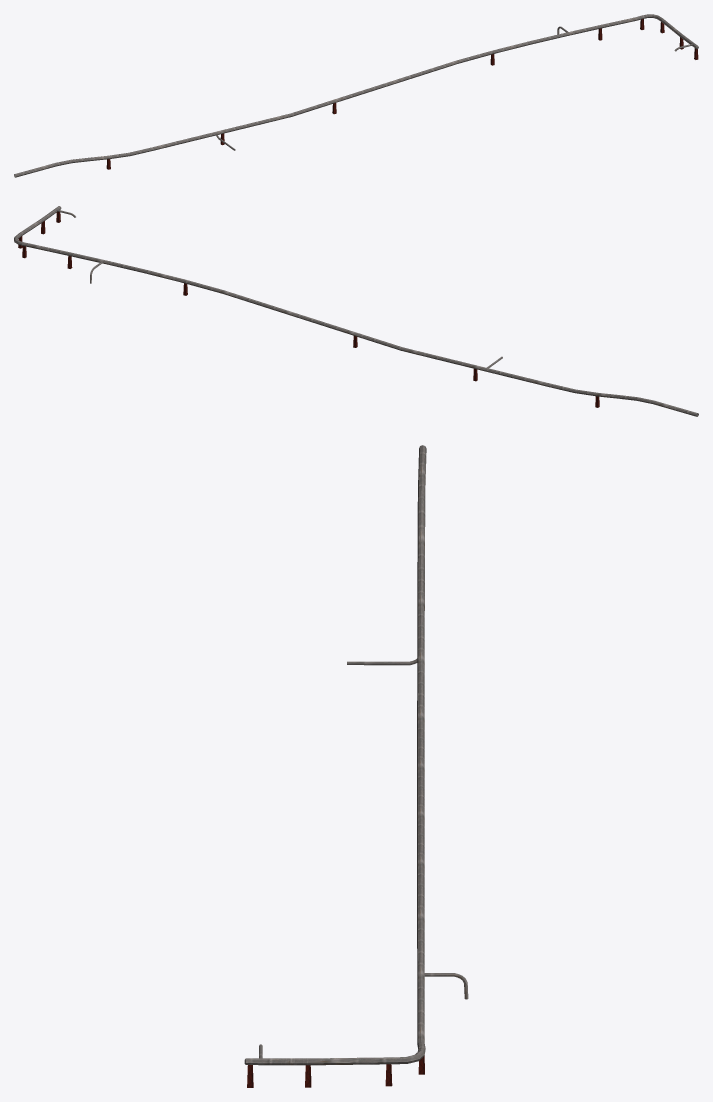
File: des_oilpipe_07.obj
3 views of the same model, one above another, from view 1: azimuth 30°, elevation 25°; view 2: azimuth 150°, elevation 25°; view 3: azimuth 270°, elevation 25° (orthographic). The views are drawn at different scales.
Parts seen in each view (by area): view 1: des_oilpipe_07; view 2: des_oilpipe_07; view 3: des_oilpipe_07.
Part boxes in pixels (<box>): des_oilpipe_07: <box>14,14,698,177</box>; des_oilpipe_07: <box>14,206,698,416</box>; des_oilpipe_07: <box>244,445,468,1087</box>.
Bounding box in the file's own units: 217 × 9.09 × 32.79.
Materials: 2 (2 with a texture image).
